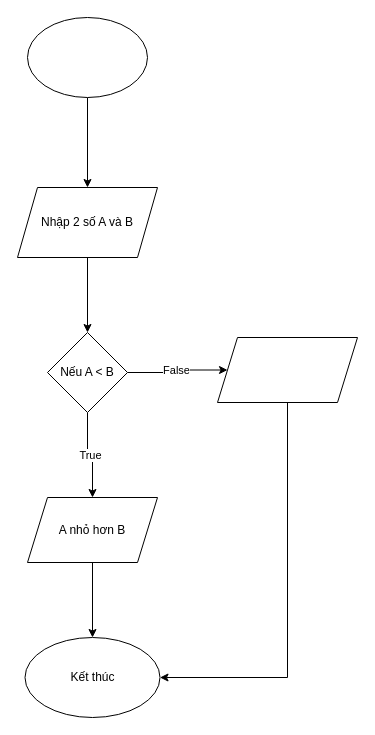
Image size: 375x735. Some labels were removed from this diagram. The centre of each missing label's shape, as x and y in pixels:
"A lớn hơn B" goes at point 287,369.
"Bắt đầu" goes at point 87,57.
